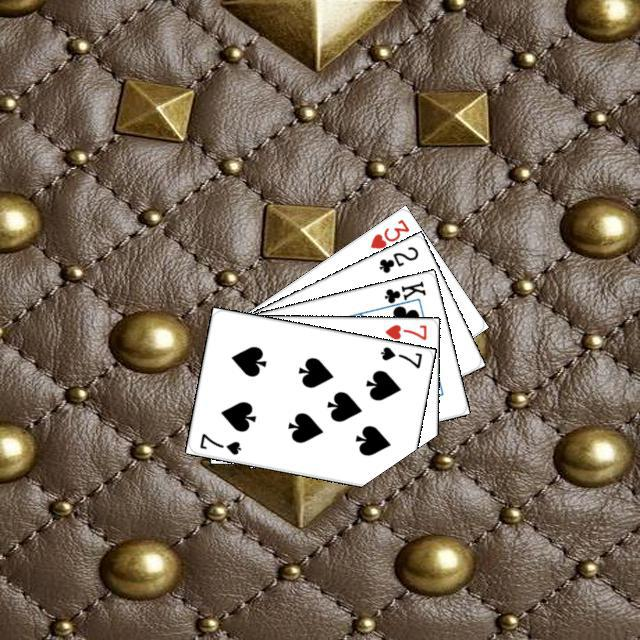2c: (374, 241, 420, 275)
3h: (365, 214, 411, 251)
7h: (380, 320, 428, 342)
7s: (375, 342, 424, 370), (195, 428, 243, 456)
Kc: (377, 276, 428, 310)
